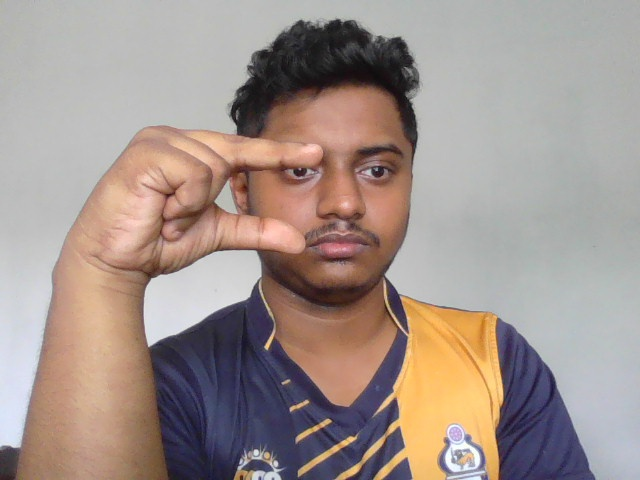No: (66, 121, 317, 272)
